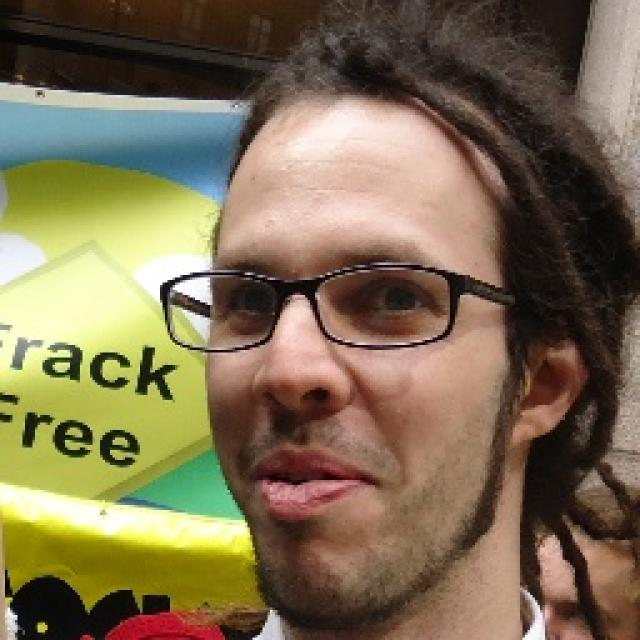earlobe: (508, 338, 592, 446)
